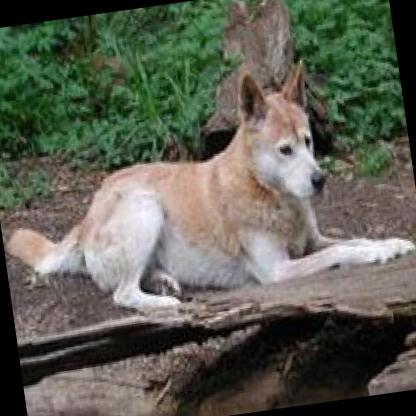dingo: (0, 33, 416, 339)
